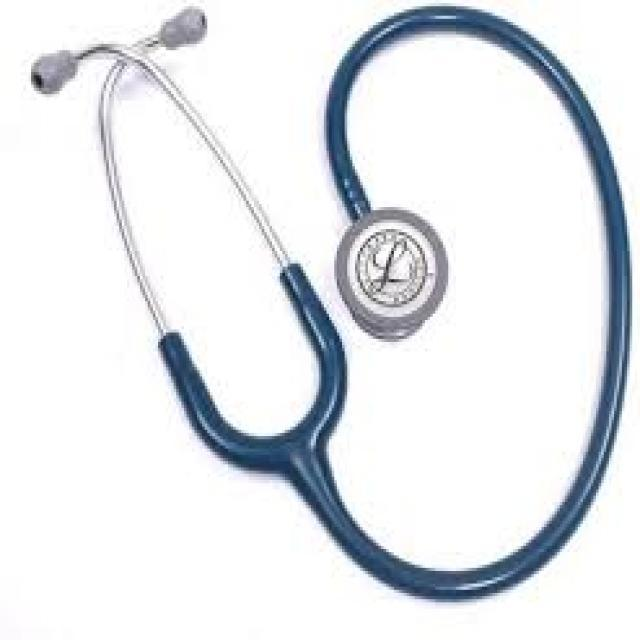stethoscope: (54, 11, 610, 607)
